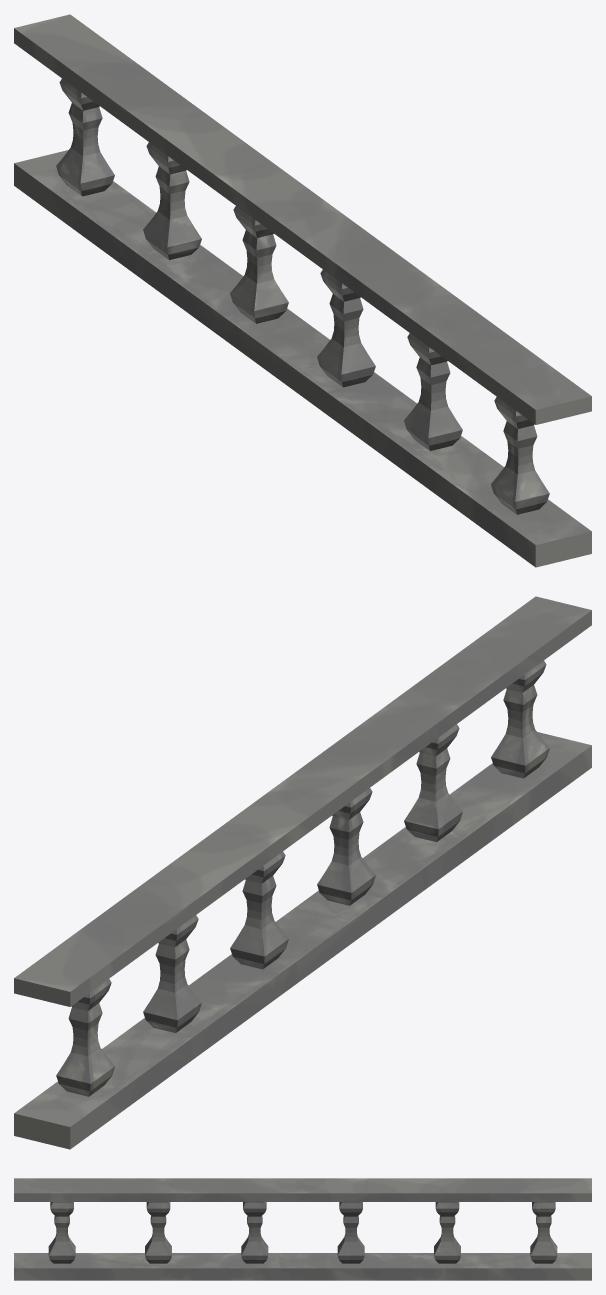
Rendered from korkuluk.fbx.
3 views of the same model, one above another, from view 1: azimuth 30°, elevation 25°; view 2: azimuth 150°, elevation 25°; view 3: azimuth 270°, elevation 25° (orthographic). The views are drawn at different scales.
Parts seen in each view (by area): view 1: Cube.002; view 2: Cube.002; view 3: Cube.002.
Part boxes in pixels (box(x1,y1,x2,y2)): Cube.002: box(14, 14, 591, 567); Cube.002: box(14, 596, 591, 1149); Cube.002: box(14, 1178, 591, 1280).
Size of the model in its own units: 0.747 by 2 by 12.
1 material, 1 textured.
